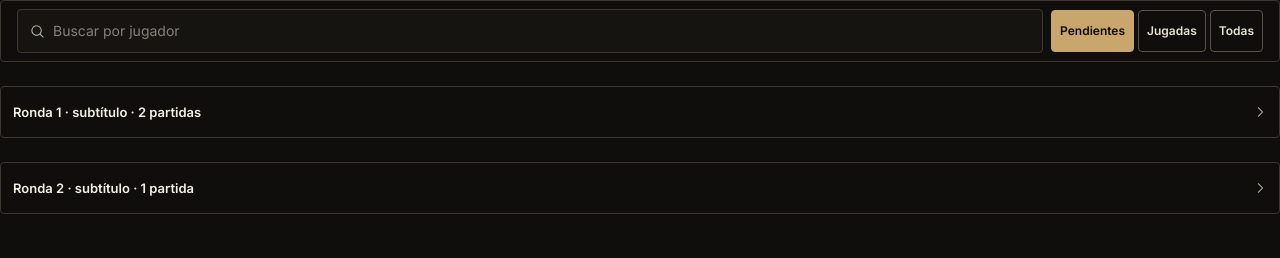
Test: CA-11: el buscador filtra por jugador, sin acentos ni mayúsculas › «martin» deja sólo los bloques y partidas donde juega un «Martín», todos desplegados, con «N de M»
This screenshot has width=1280, height=258.
Type "martin" into the search field with test id "search-input" at (542, 31), box [53,18,1030,44]
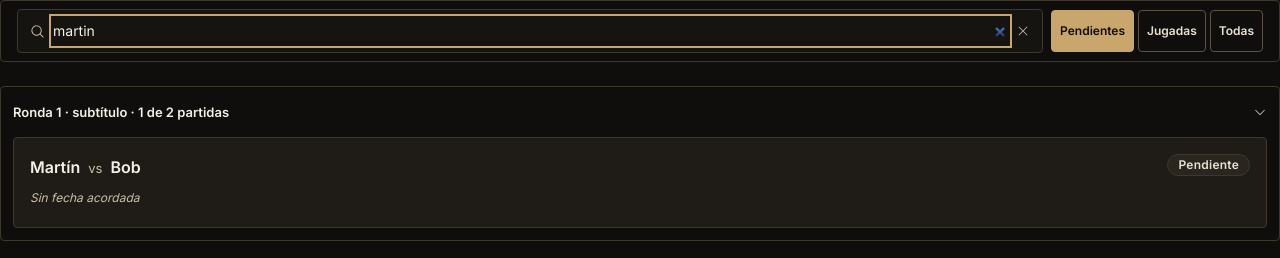
Now the text "Martín" is shown, box [30,157,80,177]
